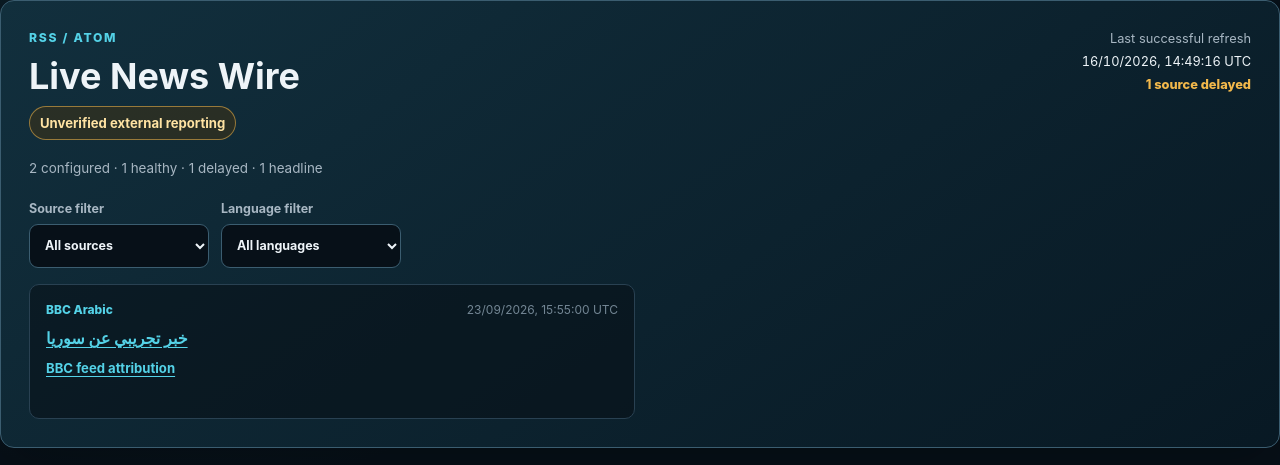
Test: NewsWire › summarizes retained headlines and lists configured empty and delayed sources
Expected: the text "2 configured · 1 healthy · 1 delayed · 1 headline" is shown, [29, 160, 323, 176]
Select "UN News · delayed" in the dropdown labelled "Source filter" at x=119, y=246, box [29, 224, 209, 268]
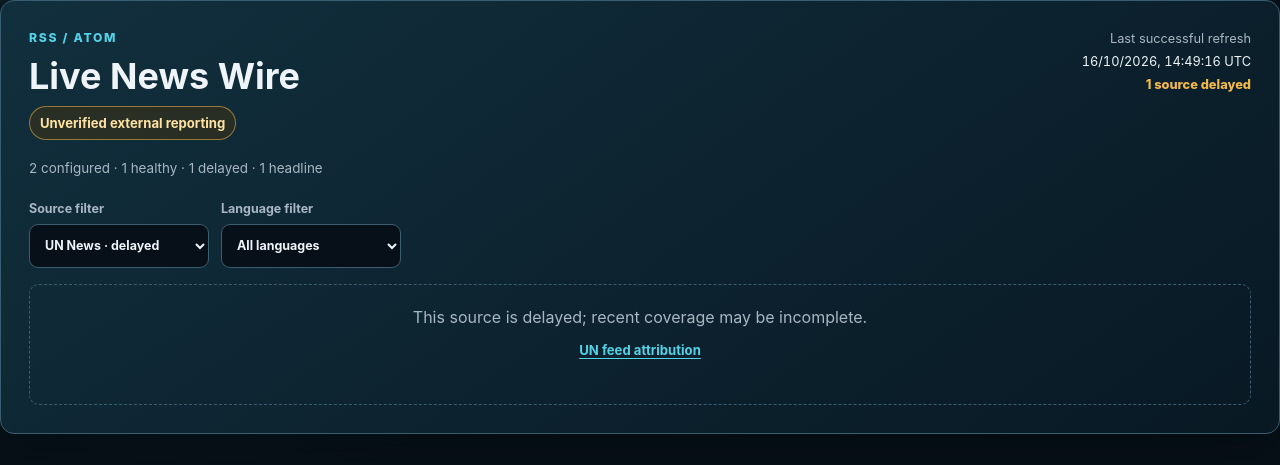
Expected: the text "This source is delayed; recent coverage may be incomplete." is shown, [413, 307, 867, 327]
